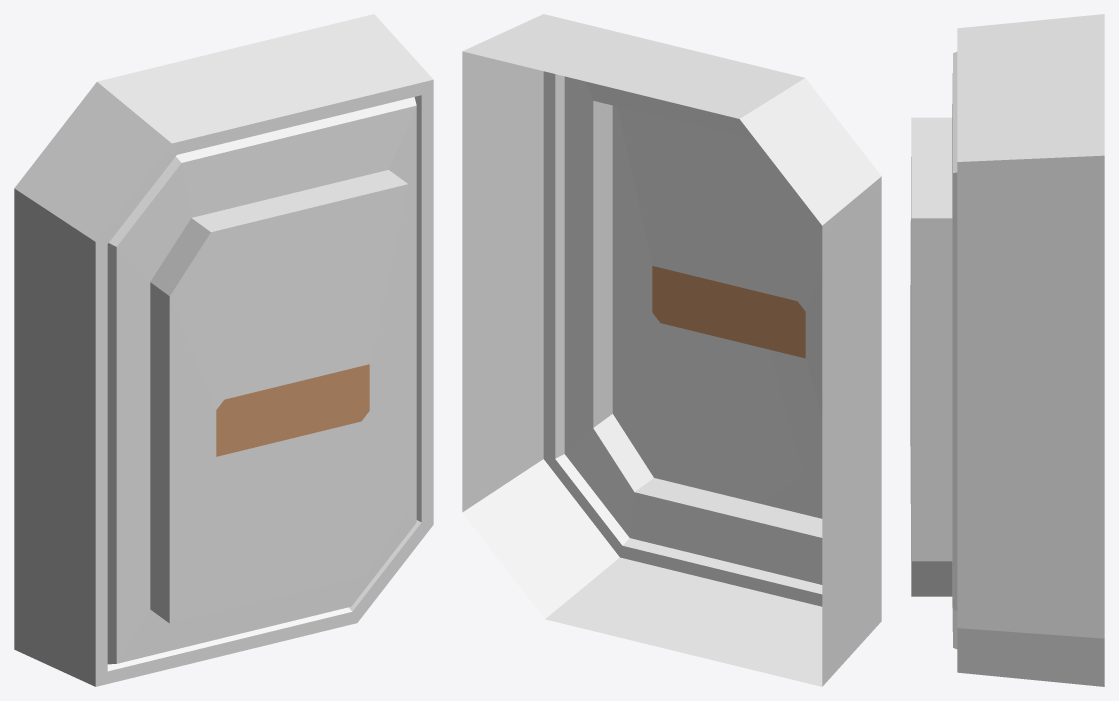
File: Cabinet.002.fbx
3 views of the same model, side by side, from view 1: azimuth 30°, elevation 25°; view 2: azimuth 150°, elevation 25°; view 3: azimuth 270°, elevation 25° (orthographic). The views are drawn at different scales.
Visible parts, largest first — view 1: Cabinet.002; view 2: Cabinet.002; view 3: Cabinet.002.
Boxes of the visible parts, x1,y1,x2,y2 form: Cabinet.002: (14, 14, 433, 686); Cabinet.002: (462, 14, 881, 686); Cabinet.002: (910, 14, 1104, 686).
Bounding box in the file's own units: 0.3439 × 0.5001 × 0.1534.
